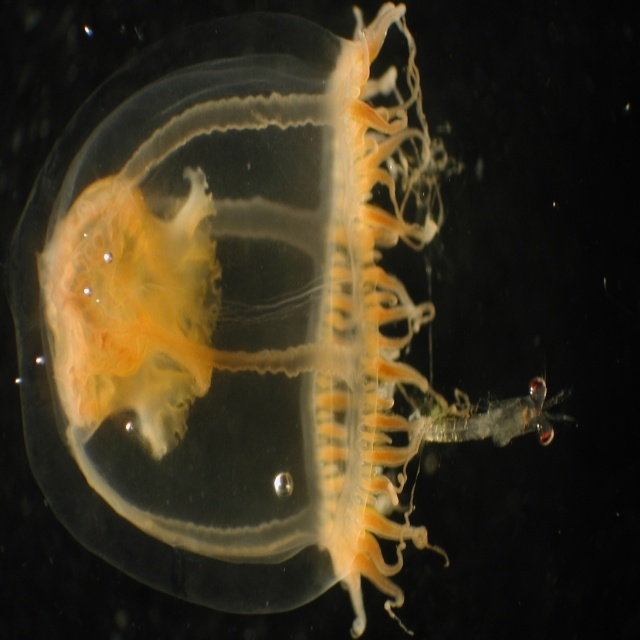Jellyfish: (2, 0, 578, 639)
